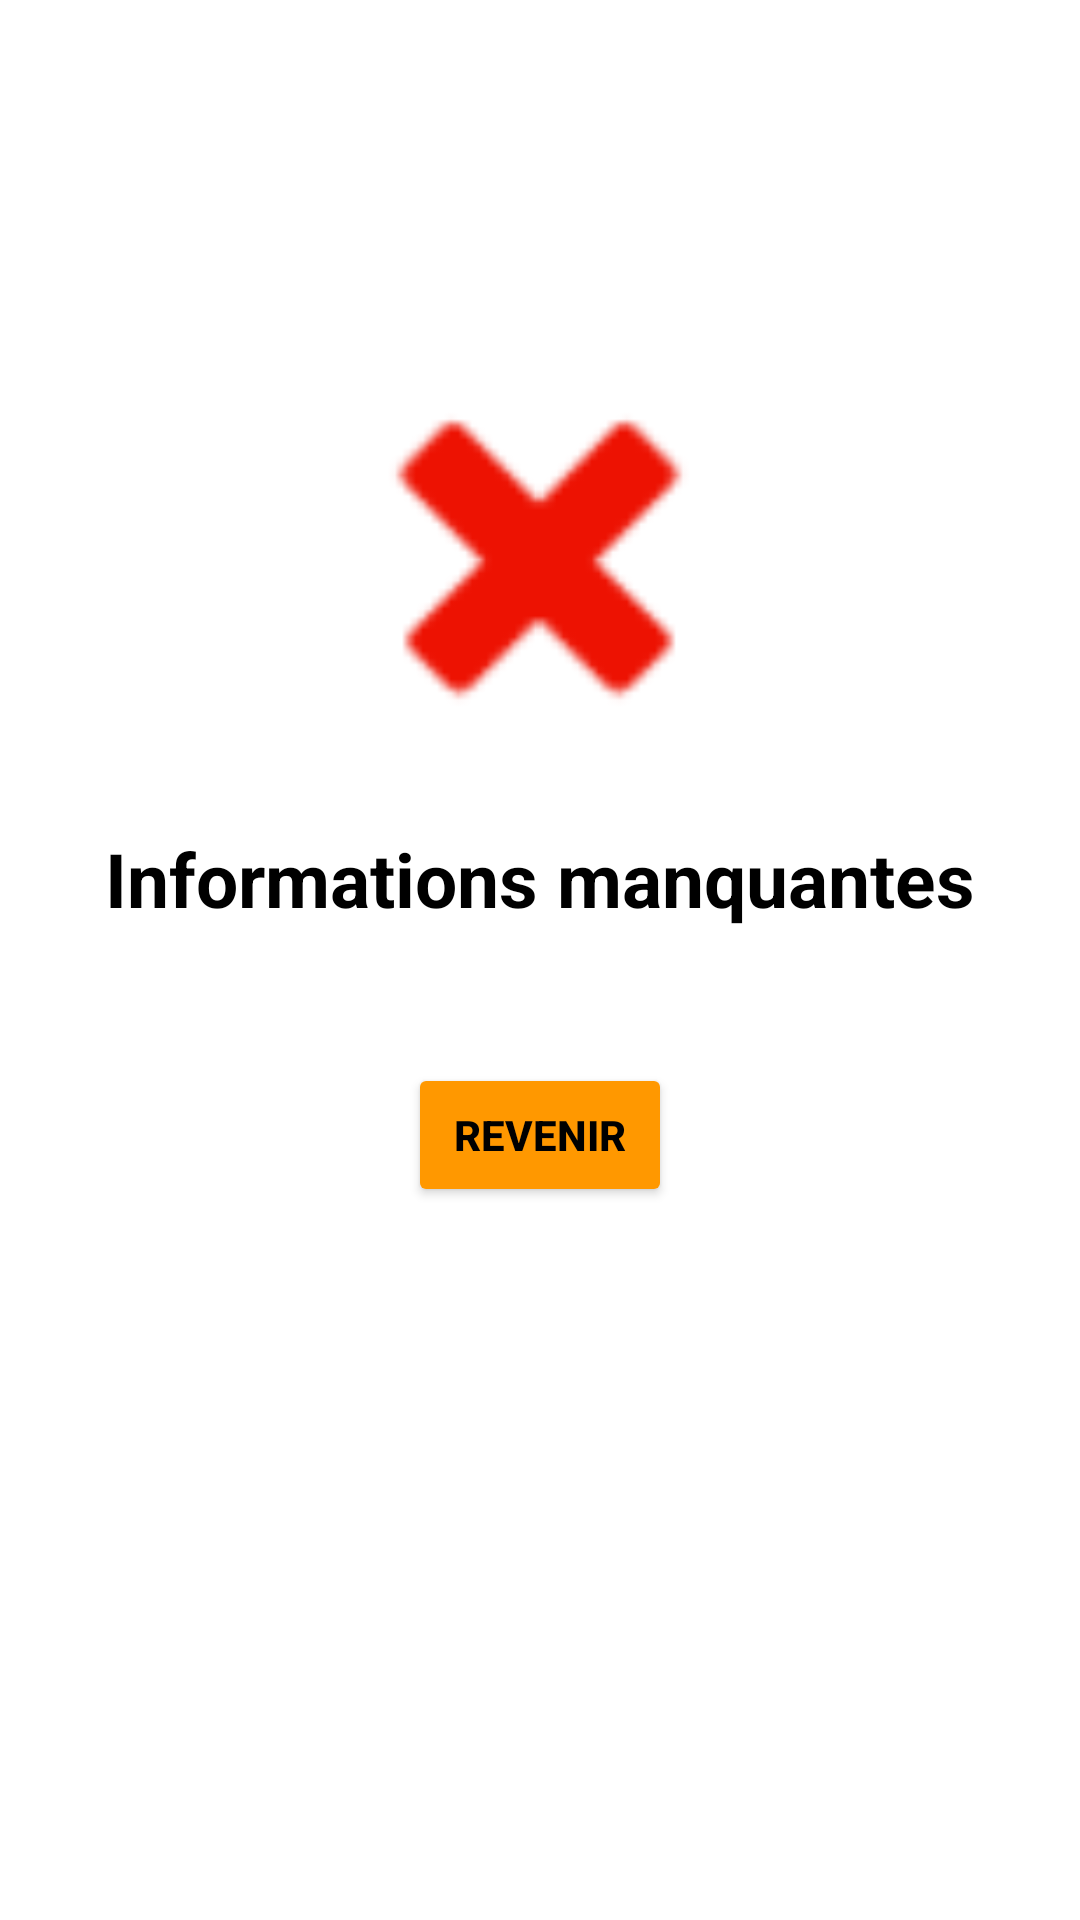

Point at icon controls on the screen. Image size 1080x1920, points as (x=x, y=y).
delete: (x=539, y=559)
